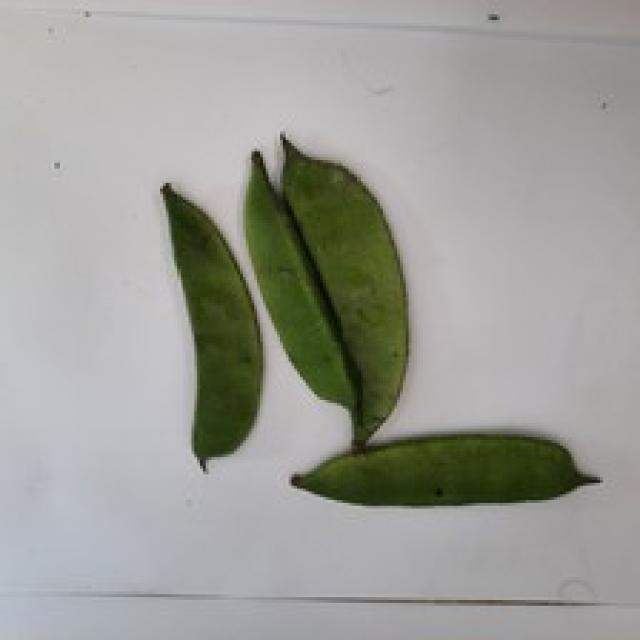Bean: (277, 128, 409, 446), (240, 146, 360, 417), (157, 180, 263, 471), (289, 428, 600, 506)
